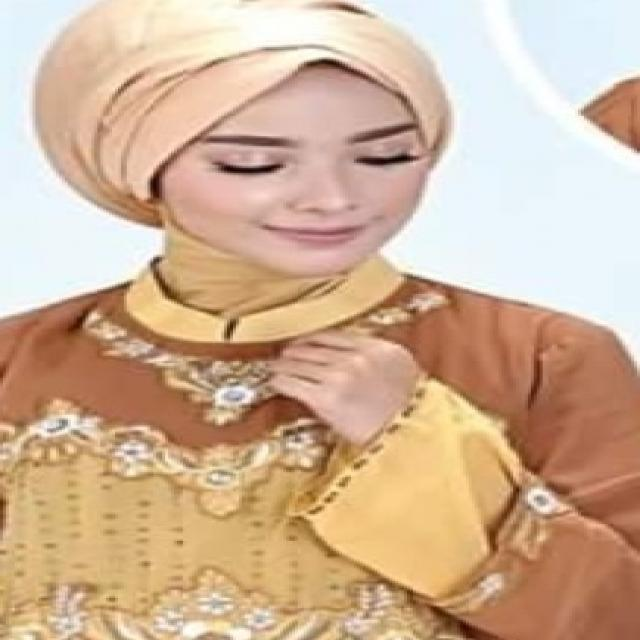head: (107, 1, 470, 294)
